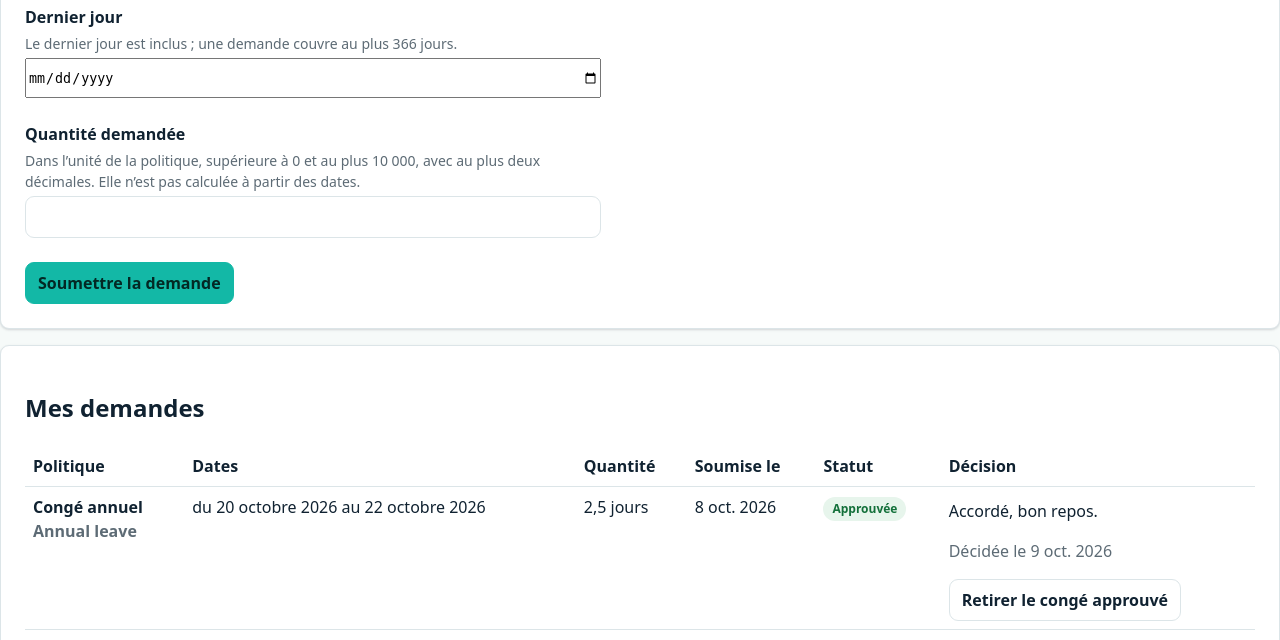
Test: MVP-041F withdraw my approved leave (fr) › shows a refused withdrawal (0)
(page scrolled)
Step 1. Click the button with test id "withdraw-request" → (1065, 600), box x1=949 y1=579 x2=1181 y2=621
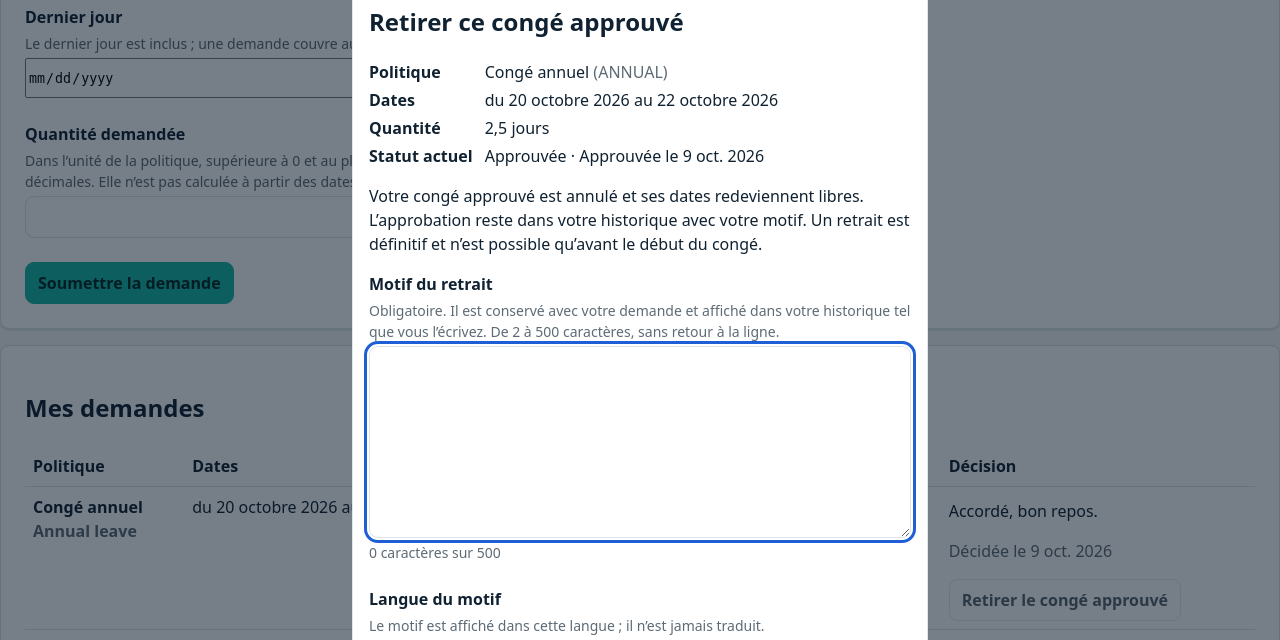
Step 2. Type "Plus besoin." into the text box labelled "Motif du retrait" → (640, 442), box x1=369 y1=346 x2=911 y2=538
(page scrolled)
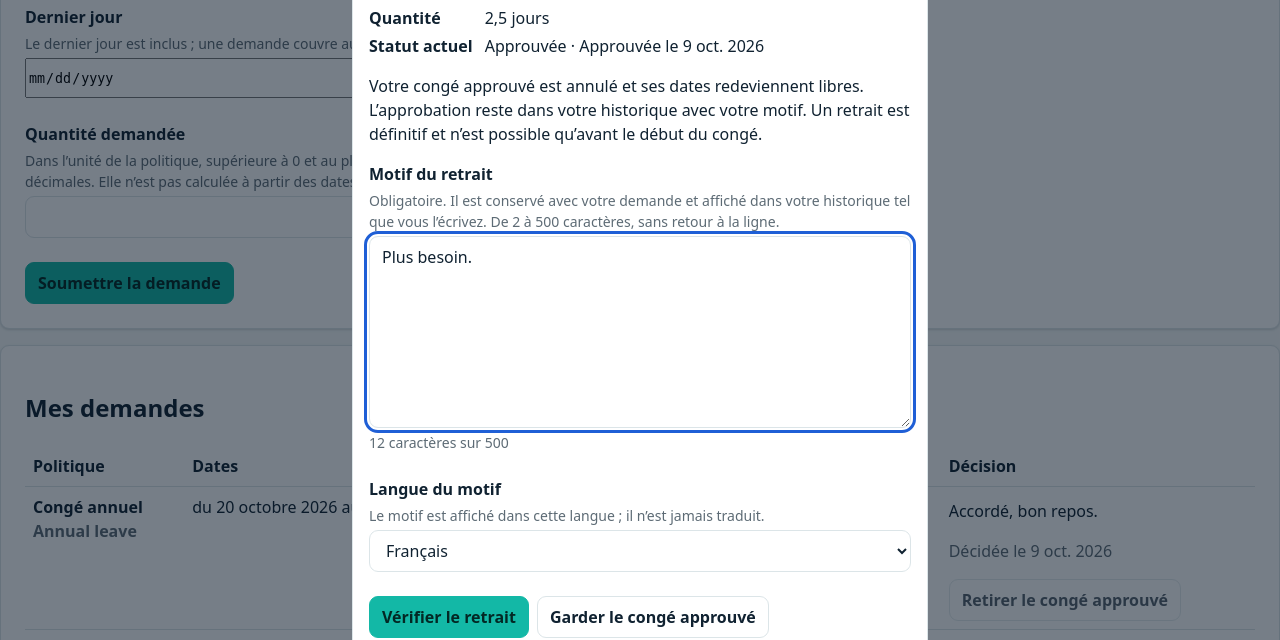
Step 3. Click the button "Vérifier le retrait" → (449, 617), box x1=369 y1=596 x2=529 y2=638
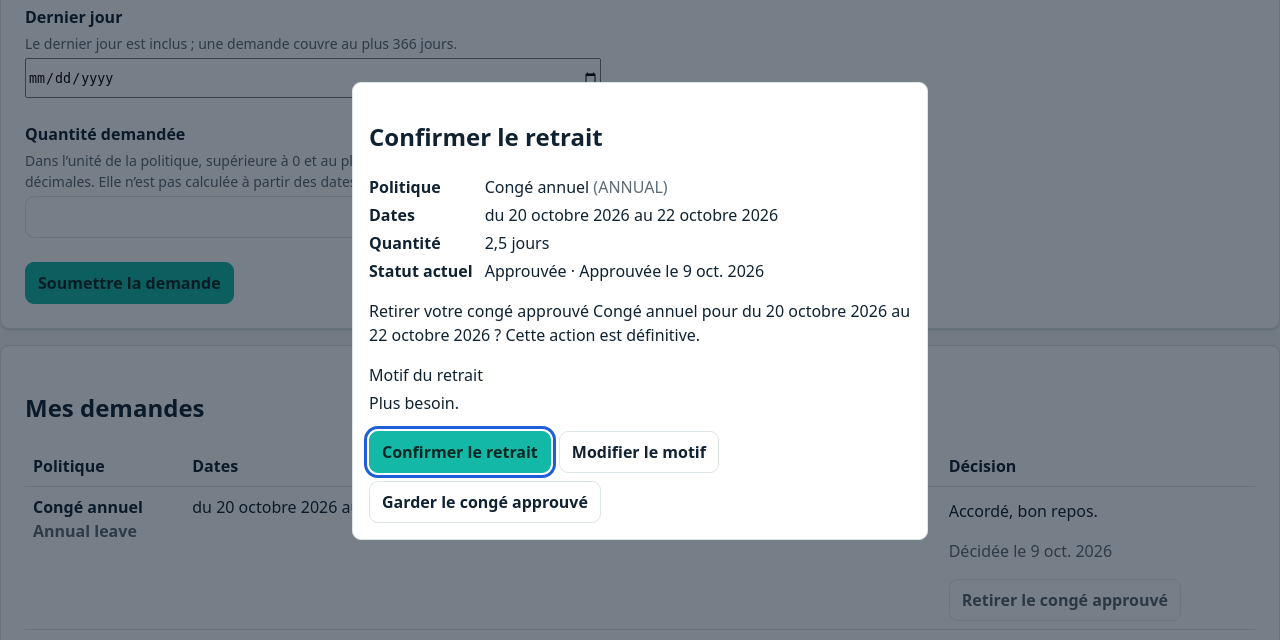
Step 4. Click the button "Confirmer le retrait" → (460, 452), box x1=369 y1=431 x2=551 y2=473
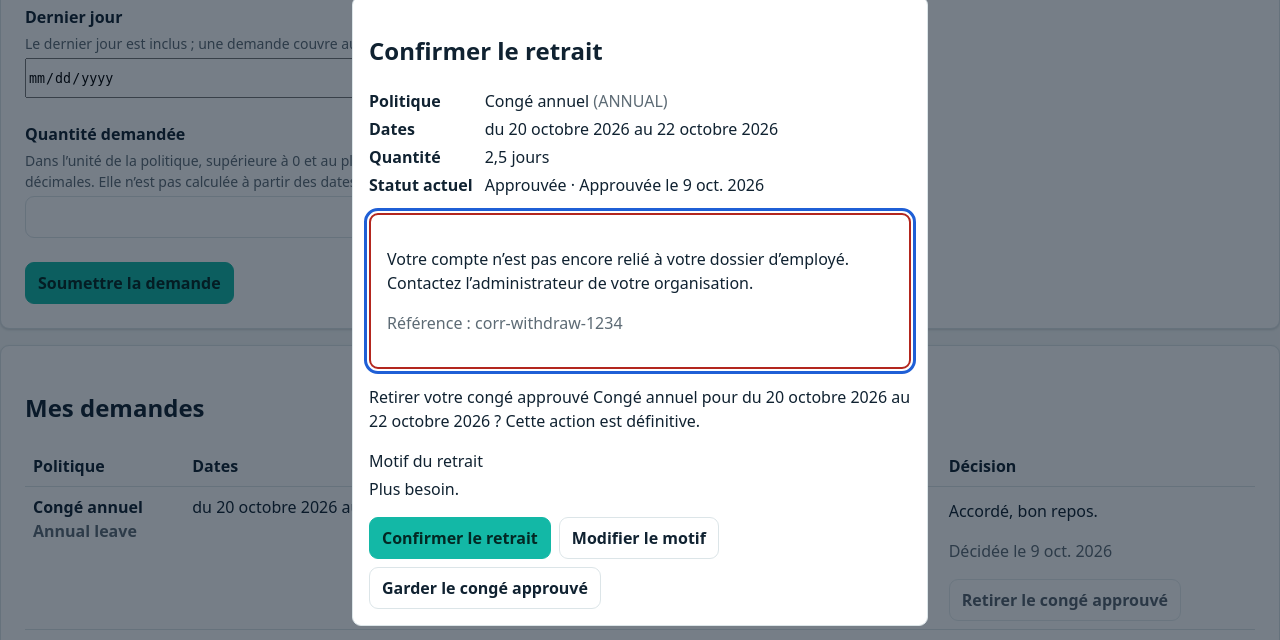
Expected: the message with test id "withdraw-error" does not show "Plus besoin", x1=369 y1=213 x2=911 y2=369
Now the message with test id "withdraw-error" shows "corr-withdraw-1234", box x1=387 y1=312 x2=623 y2=334
